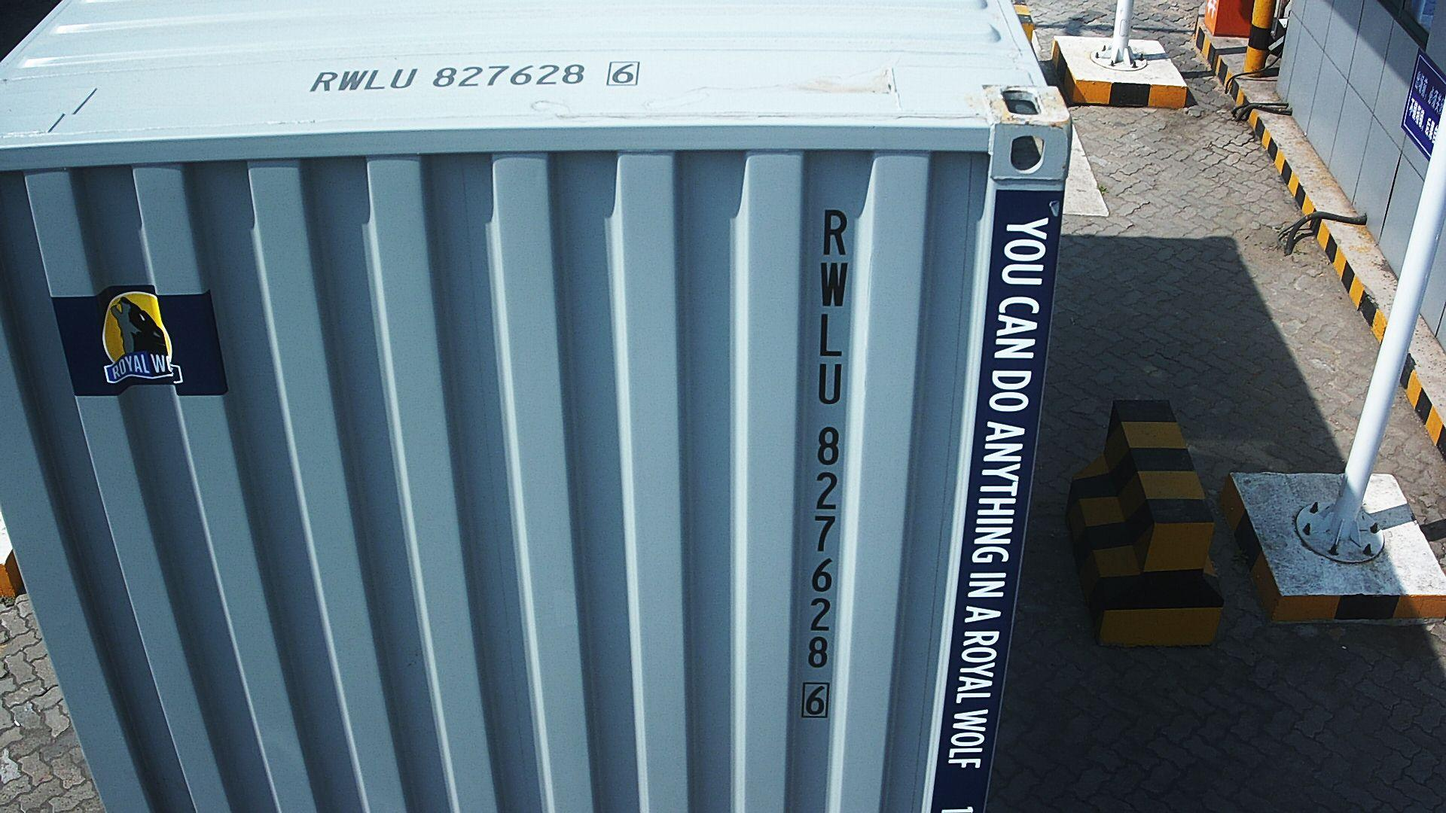container-numbers: (798, 203, 856, 725), (297, 59, 648, 96)
